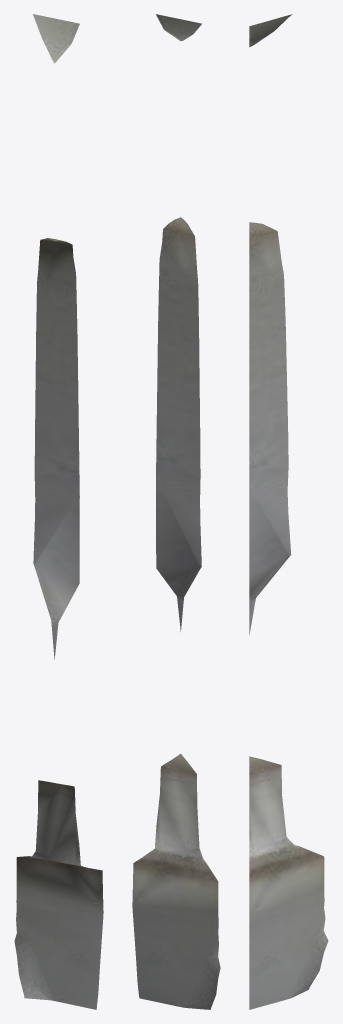
3 renders of one model, left to right at view 1: azimuth 30°, elevation 25°; view 2: azimuth 210°, elevation 25°; view 3: azimuth 270°, elevation 25°, orthographic.
Bounding box in the file's own units: 0.1763 × 3.41 × 0.2502.
Materials: 1 (1 with a texture image).
